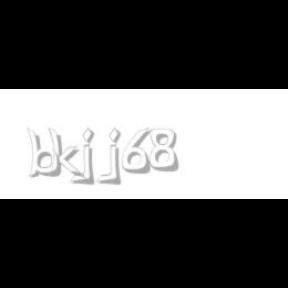6: (122, 128, 150, 176)
8: (150, 128, 178, 172)
b: (26, 128, 64, 178)
j: (106, 128, 136, 186), (80, 128, 108, 186)
k: (47, 128, 85, 180)
